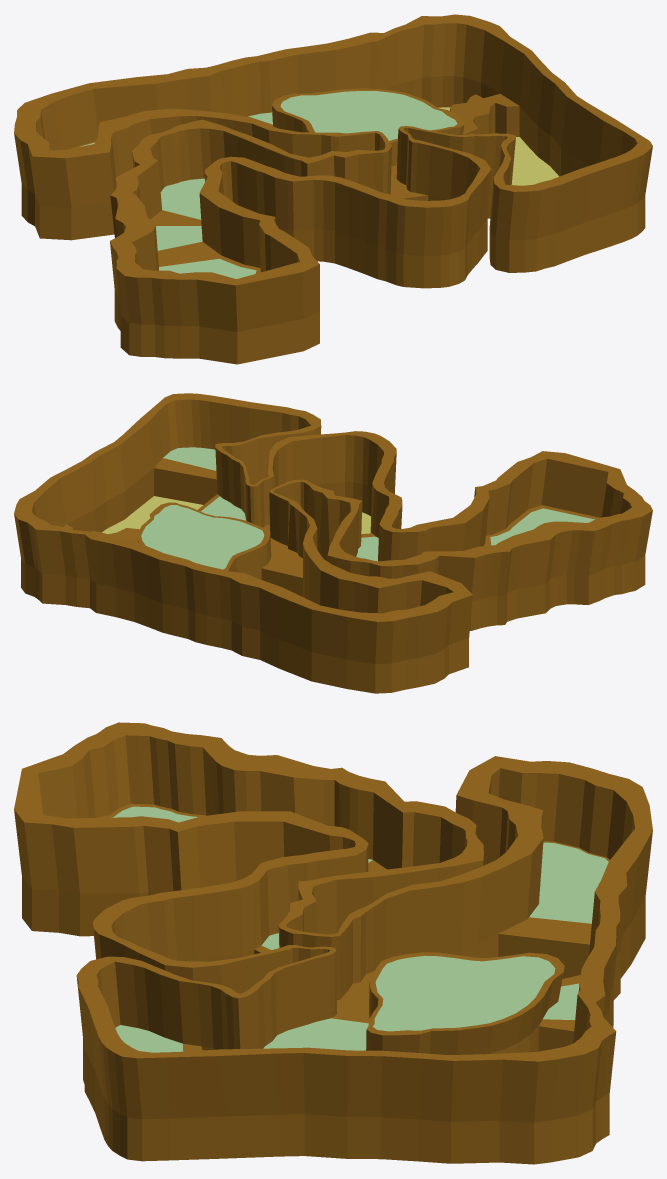
File: Map.fbx
3 views of the same model, one above another, from view 1: azimuth 30°, elevation 25°; view 2: azimuth 150°, elevation 25°; view 3: azimuth 270°, elevation 25° (orthographic). The views are drawn at different scales.
Parts seen in each view (by area): view 1: Map; view 2: Map; view 3: Map.
Boxes of the visible parts, x1,y1,x2,y2 form: Map: (14,14,652,364); Map: (14,393,652,693); Map: (14,722,652,1164).
Bounding box in the file's own units: 22019 × 3225 × 17528.
